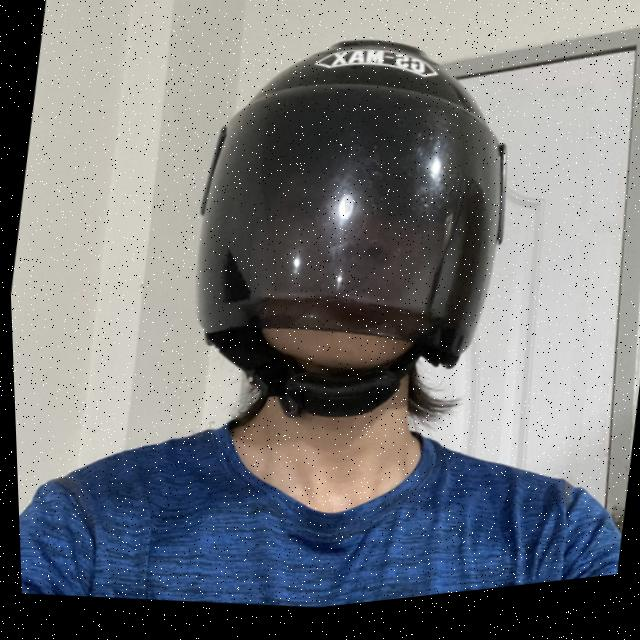helmet: (151, 0, 546, 474)
